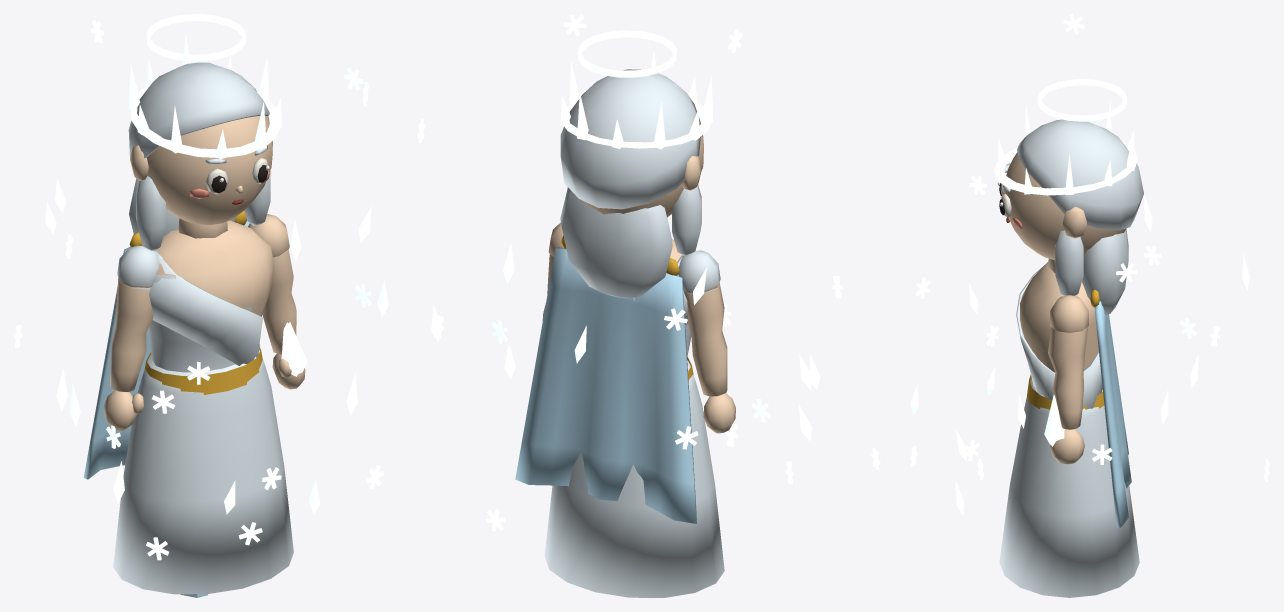
The model's file is chione.glb.
The picture shows the model from 3 angles, left to right: view 1: azimuth 30°, elevation 25°; view 2: azimuth 150°, elevation 25°; view 3: azimuth 270°, elevation 25°; orthographic projection. The views are drawn at different scales.
Parts seen in each view (by area): view 1: huefte, rumpf, haare, kopf, armL, armR, kopfschmuck, umhang, vfx_halo, vfx_schnee_1, vfx_schnee_0, vfx_eis_2 (+4 smaller); view 2: umhang, haare, huefte, armL, kopfschmuck, vfx_halo, kopf, vfx_schnee_2, vfx_schnee_0, vfx_eis_2, vfx_eis_1, vfx_schnee_1; view 3: huefte, haare, rumpf, armR, kopf, umhang, kopfschmuck, vfx_halo, vfx_schnee_0, vfx_schnee_1, vfx_eis_0, vfx_eis_2 (+2 smaller).
Part boxes in pixels (x1,y1,x2,y2): huefte: [113, 349, 293, 594]; rumpf: [144, 220, 274, 394]; haare: [128, 62, 270, 250]; kopf: [130, 116, 272, 238]; armL: [104, 245, 159, 430]; armR: [248, 214, 305, 389]; kopfschmuck: [129, 34, 282, 159]; umhang: [83, 210, 259, 479]; vfx_halo: [146, 14, 245, 61]; vfx_schnee_1: [14, 284, 383, 545]; vfx_schnee_0: [91, 20, 368, 413]; vfx_eis_2: [45, 201, 357, 503]; umhang: [515, 235, 696, 523]; haare: [560, 69, 701, 297]; huefte: [544, 360, 724, 597]; armL: [678, 250, 735, 433]; kopfschmuck: [560, 49, 712, 149]; vfx_halo: [578, 30, 676, 77]; kopf: [581, 135, 703, 217]; vfx_schnee_2: [485, 308, 793, 531]; vfx_schnee_0: [417, 14, 842, 326]; vfx_eis_2: [431, 267, 812, 441]; vfx_eis_1: [504, 344, 820, 389]; vfx_schnee_1: [434, 315, 770, 449]; huefte: [999, 379, 1139, 597]; haare: [1017, 119, 1143, 315]; rumpf: [1016, 262, 1104, 409]; armR: [1048, 295, 1088, 464]; kopf: [1003, 152, 1126, 272]; umhang: [1090, 289, 1131, 527]; kopfschmuck: [994, 101, 1137, 195]; vfx_halo: [1037, 79, 1127, 121]; vfx_schnee_0: [915, 14, 1137, 346]; vfx_schnee_1: [871, 317, 1196, 480]; vfx_eis_0: [955, 253, 1249, 461]; vfx_eis_2: [911, 195, 1168, 423].
Bounding box in the file's own units: 1.66 × 2.62 × 1.84.
